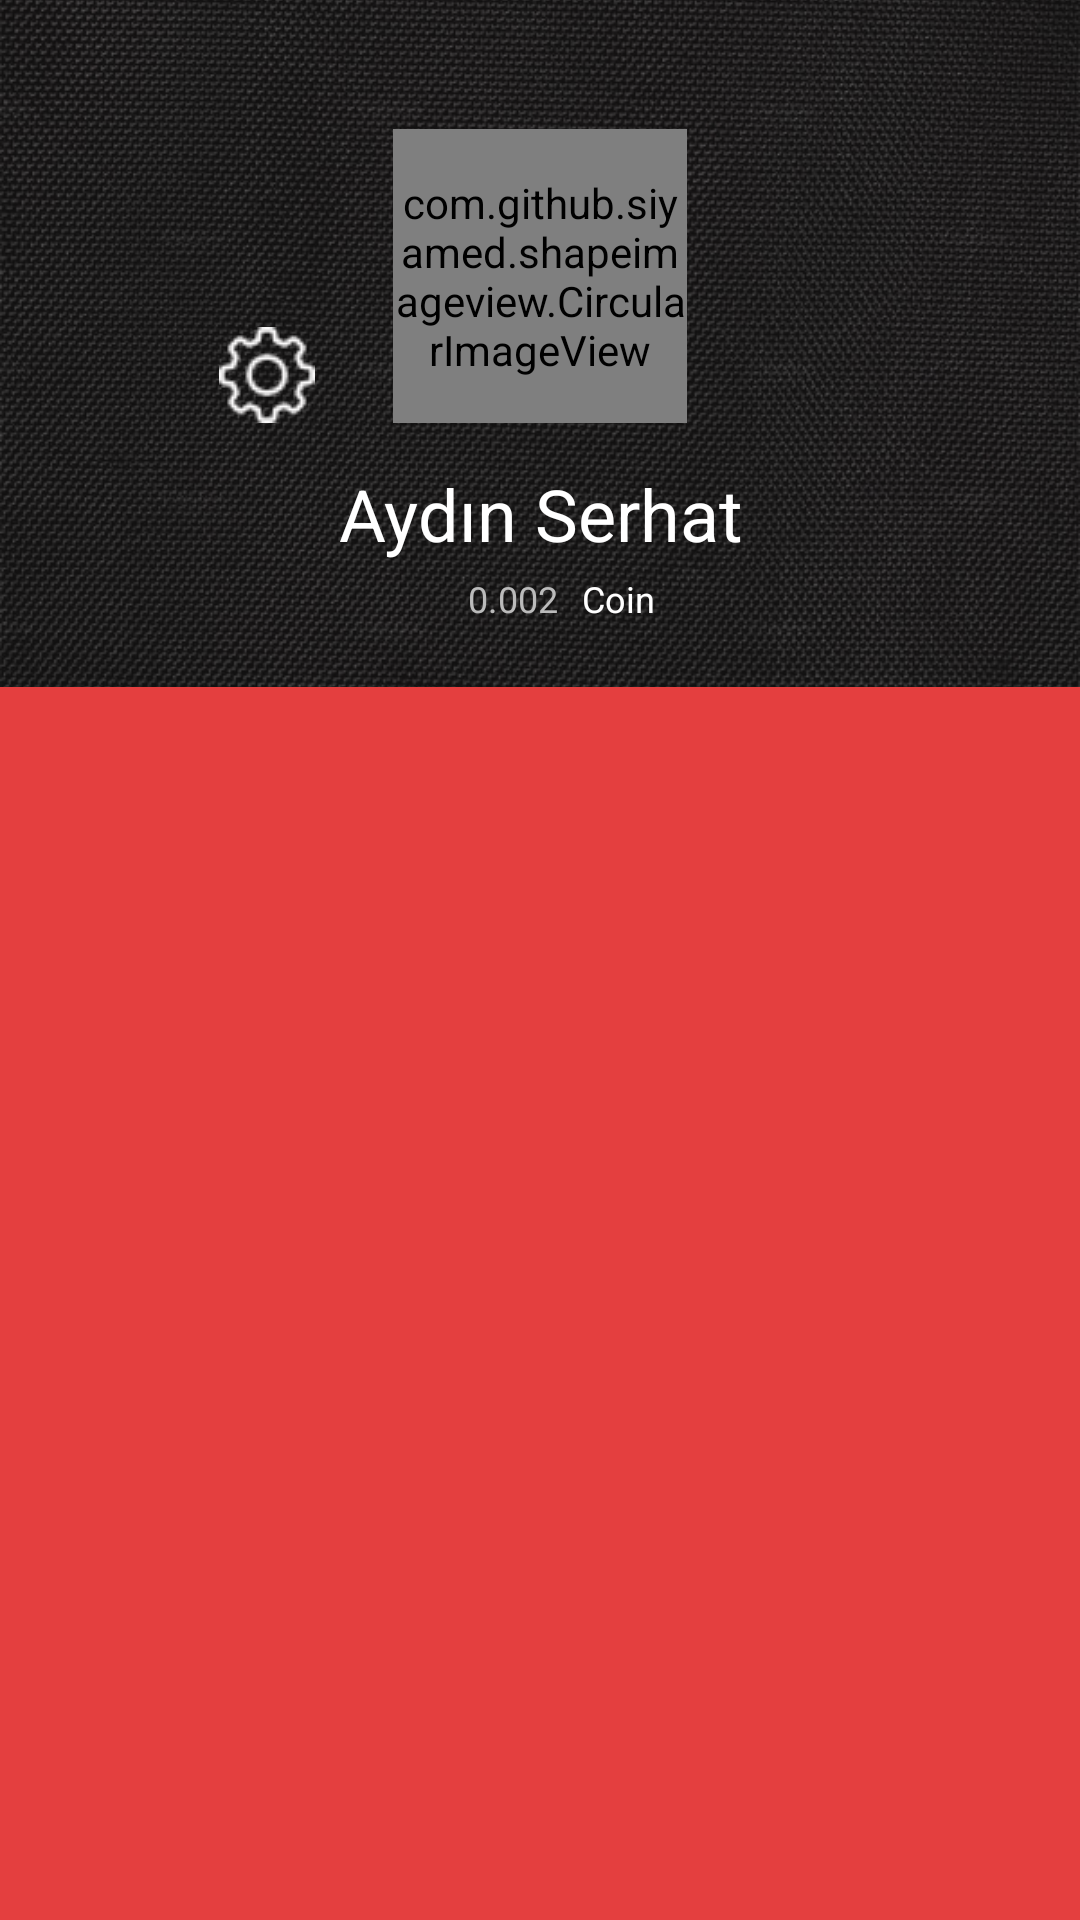

Icons on this 1080x1920 Android screen, each with its box as (x1, y1, x2, y2):
settingsbtn: (219, 327, 315, 423)
